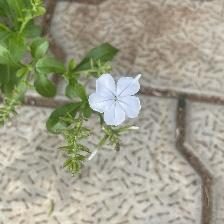chitrak: (88, 68, 147, 131)
